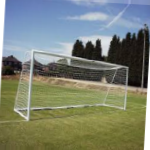goals: (12, 49, 131, 122)
